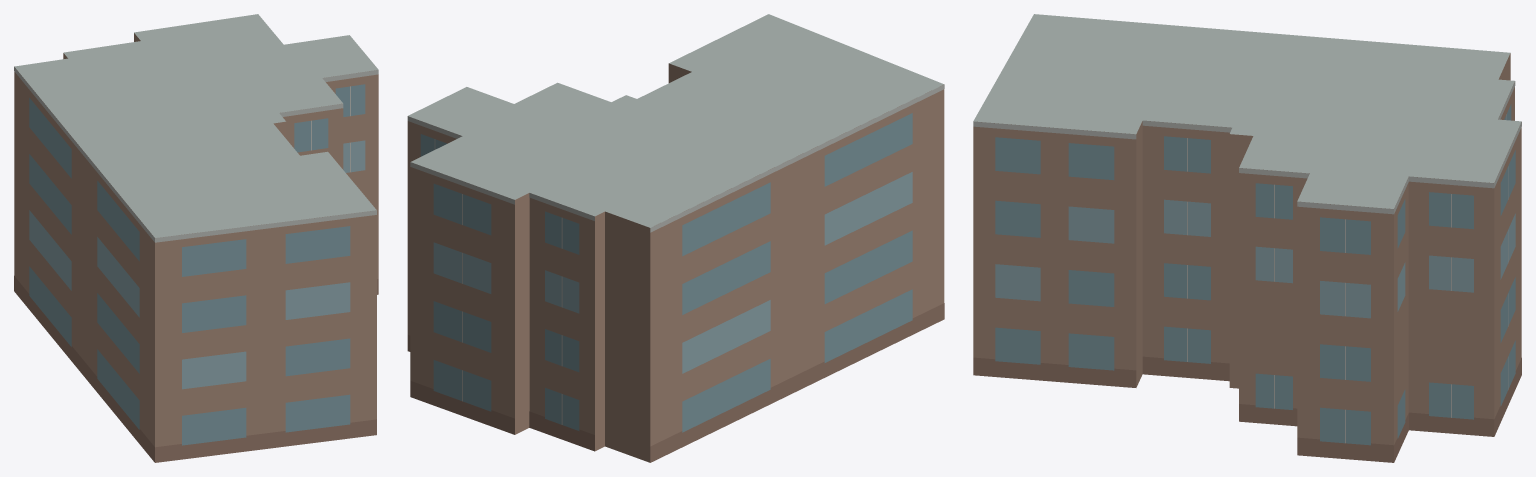
Rendered from survey-upis-32671006.glb.
3 views of the same model, side by side, from view 1: azimuth 30°, elevation 25°; view 2: azimuth 150°, elevation 25°; view 3: azimuth 270°, elevation 25° (orthographic). The views are drawn at different scales.
Visible parts, largest first — view 1: survey-upis-32671006.tmp; view 2: survey-upis-32671006.tmp; view 3: survey-upis-32671006.tmp.
Boxes of the visible parts, bbox=[...] form: survey-upis-32671006.tmp: bbox=[14, 14, 378, 462]; survey-upis-32671006.tmp: bbox=[407, 14, 944, 462]; survey-upis-32671006.tmp: bbox=[973, 14, 1521, 462].
Bounding box in the file's own units: 19.63 × 11.9 × 23.32.
